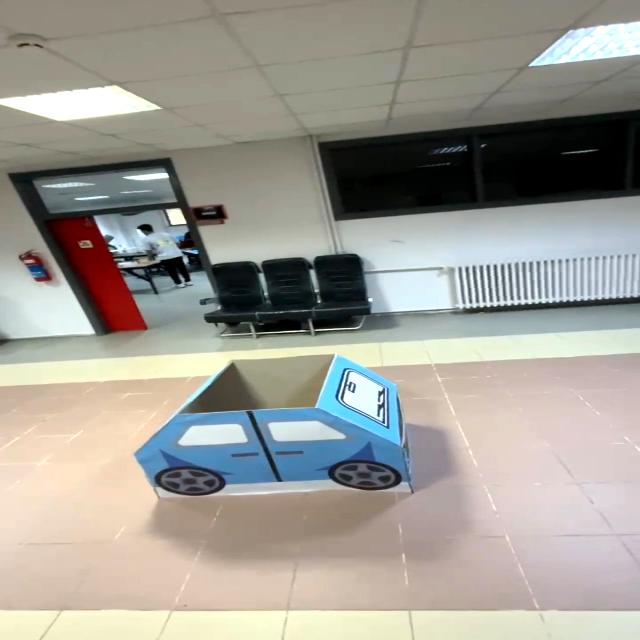blue_car: (102, 339, 434, 525)
